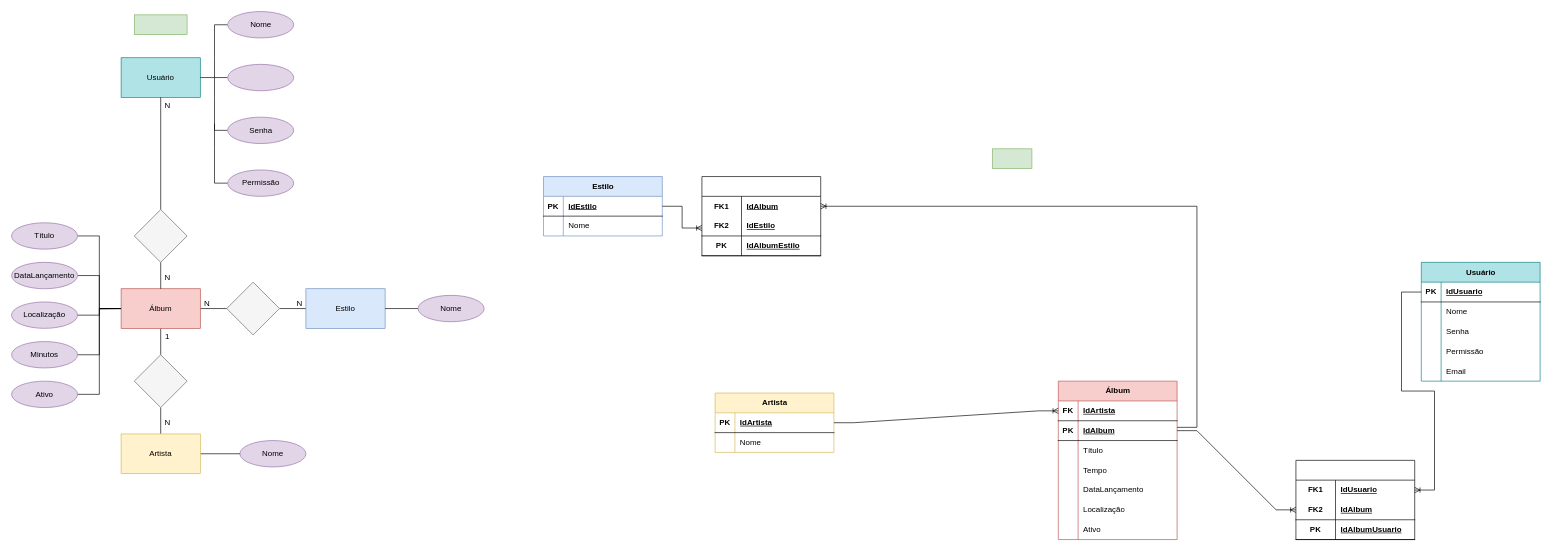
The diagram is 1552 pixels wide and 551 high, and some of its shapes have lost their labels. The shapes that lost their labels are listed below. From the top down, each one's box as (x1, y1, x2, y2) in pixels, then its label:
(134, 14, 187, 35): Conceitual
(227, 64, 294, 91): E-mail
(992, 148, 1032, 169): Lógico
(134, 209, 187, 262): Ouve
(701, 176, 821, 256): ÁlbumEstilo
(226, 281, 280, 335): Contém
(134, 354, 187, 408): Produz
(1295, 460, 1415, 540): ÁlbumUsuário
